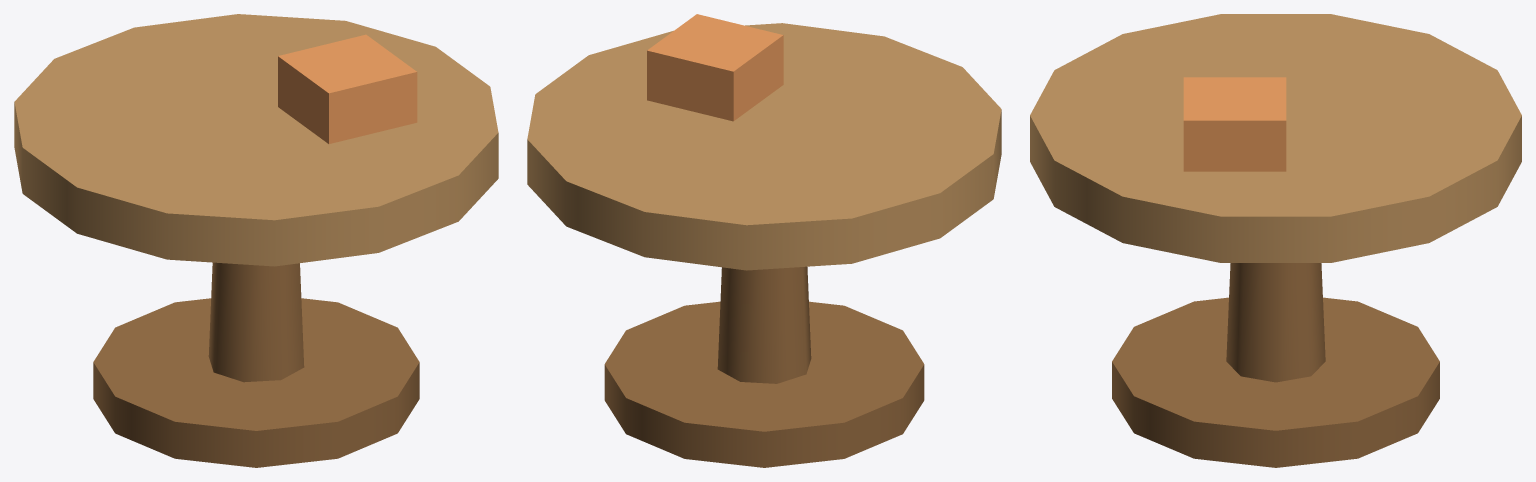
Rendered from side_table.glb.
3 renders of one model, left to right at view 1: azimuth 30°, elevation 25°; view 2: azimuth 150°, elevation 25°; view 3: azimuth 270°, elevation 25°, orthographic. The views are drawn at different scales.
Visible parts, largest first — view 1: side_table; view 2: side_table; view 3: side_table.
Boxes of the visible parts, x1=… form: side_table: x1=14, y1=14, x2=498, y2=467; side_table: x1=527, y1=14, x2=1001, y2=467; side_table: x1=1030, y1=14, x2=1521, y2=467.
Size of the model in its own units: 23.4 by 18 by 24.
